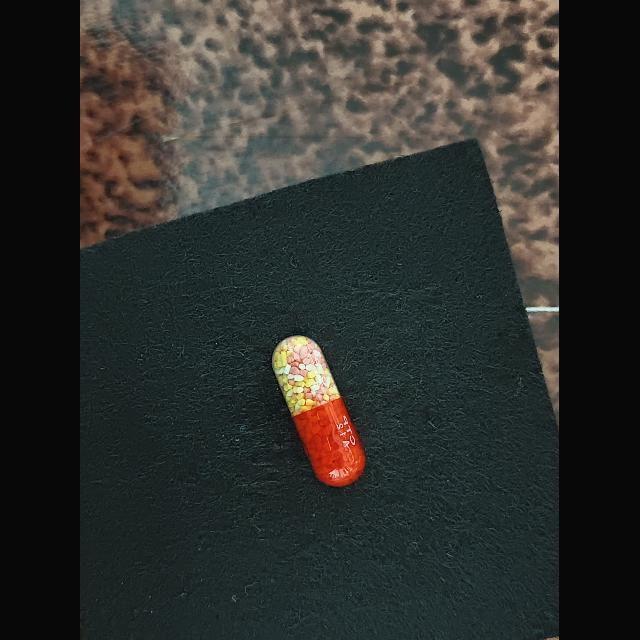Intact Capsule: (272, 335, 366, 486)
